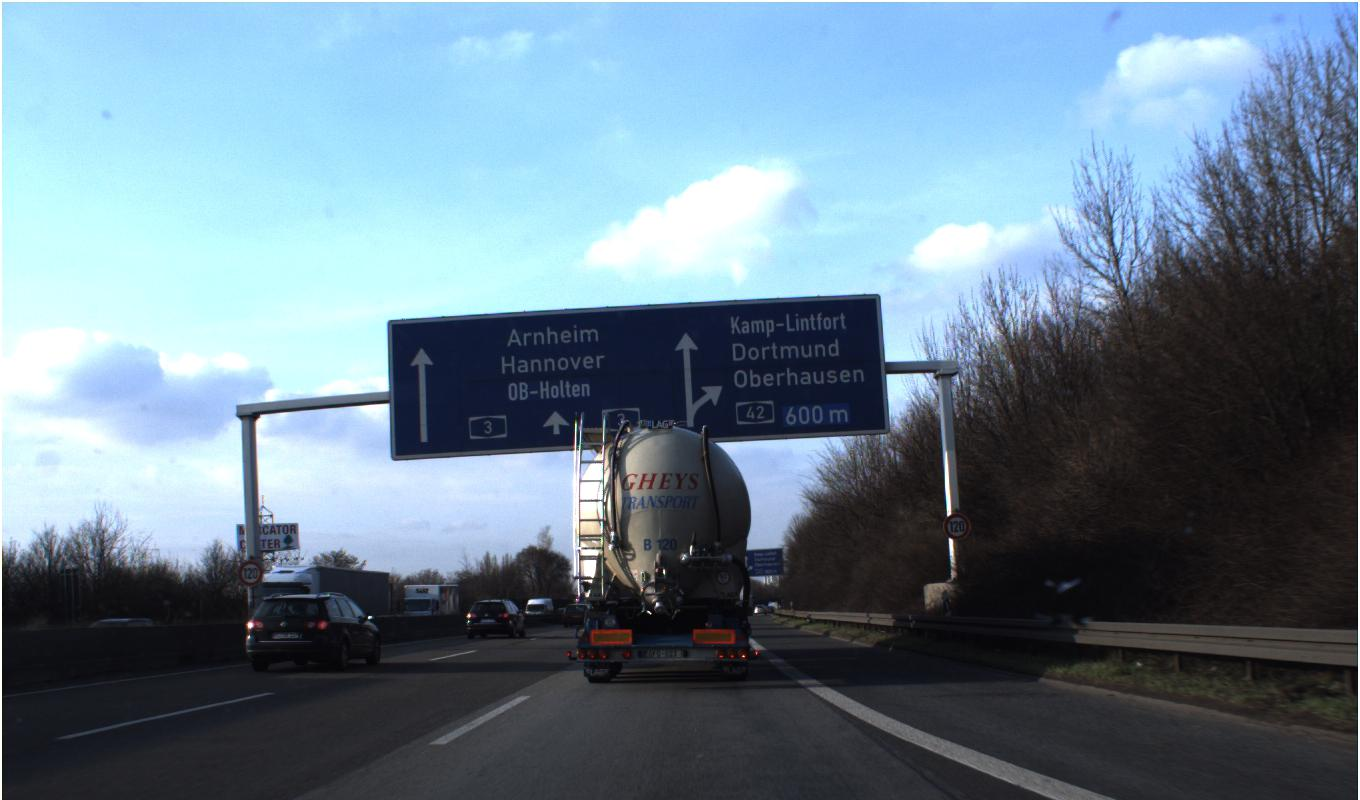prohibitory: (942, 512, 970, 540), (237, 560, 263, 586)
